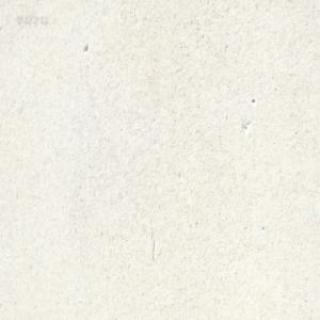Wrenchtrack_idkeyframe: (157, 0, 164, 4)
